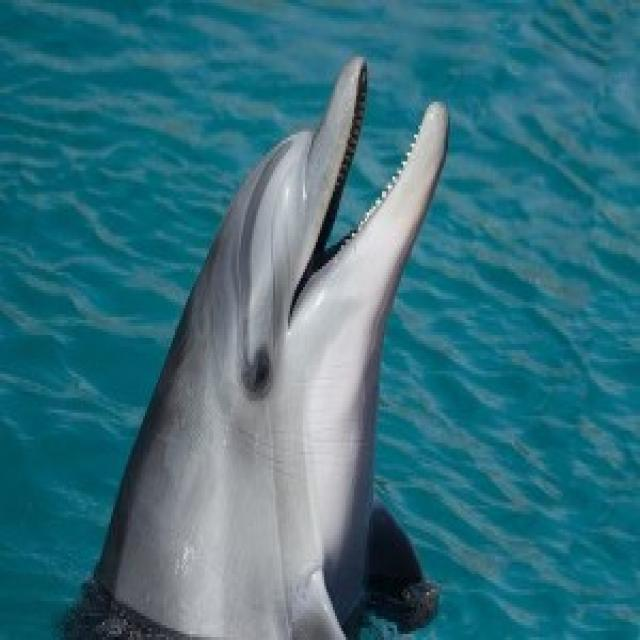Dolphin: (98, 51, 472, 640)
